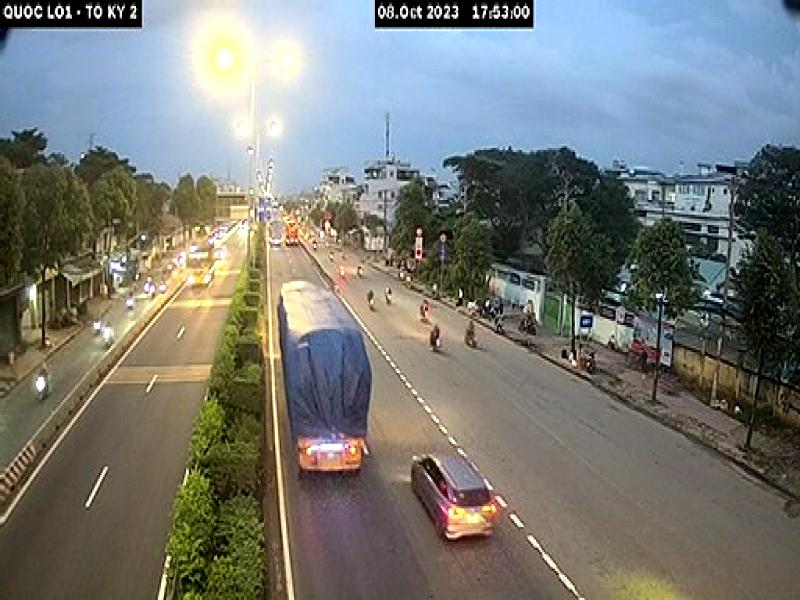car: (409, 451, 496, 540)
truck: (279, 279, 363, 474)
